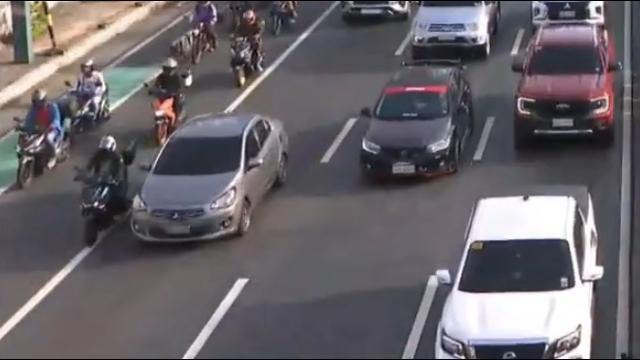car: (126, 112, 292, 251), (510, 20, 623, 151), (360, 60, 473, 184), (410, 0, 503, 62), (529, 0, 608, 33), (338, 0, 410, 25)
motorcycle: (71, 134, 142, 249), (11, 89, 68, 193), (143, 59, 192, 146), (64, 58, 108, 138), (229, 9, 266, 87), (188, 1, 224, 62), (270, 0, 299, 37)
pickup-truck: (433, 184, 604, 360)
